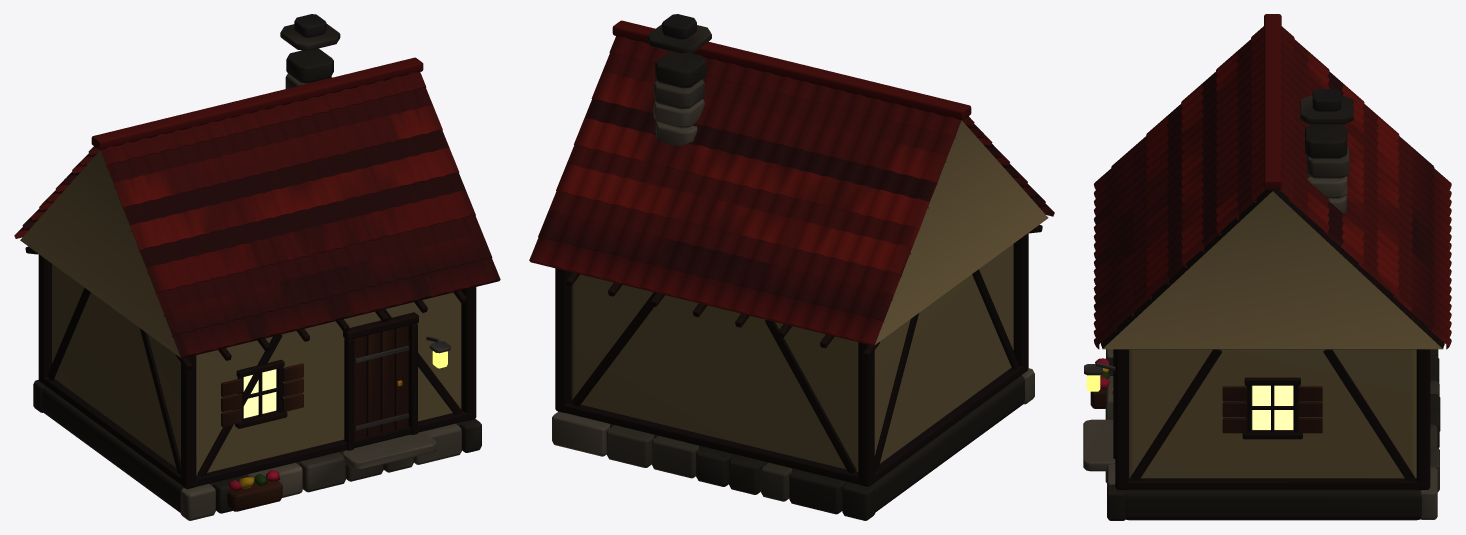
Rendered from Casa2A.fbx.
3 renders of one model, left to right at view 1: azimuth 30°, elevation 25°; view 2: azimuth 150°, elevation 25°; view 3: azimuth 270°, elevation 25°, orthographic. The views are drawn at different scales.
Visible parts, largest first — view 1: Casa2A; view 2: Casa2A; view 3: Casa2A.
Boxes of the visible parts, x1,y1,x2,y2 form: Casa2A: [14, 14, 500, 520]; Casa2A: [529, 14, 1054, 520]; Casa2A: [1083, 14, 1451, 520].
Bounding box in the file's own units: 5.79 × 6.33 × 5.39.
